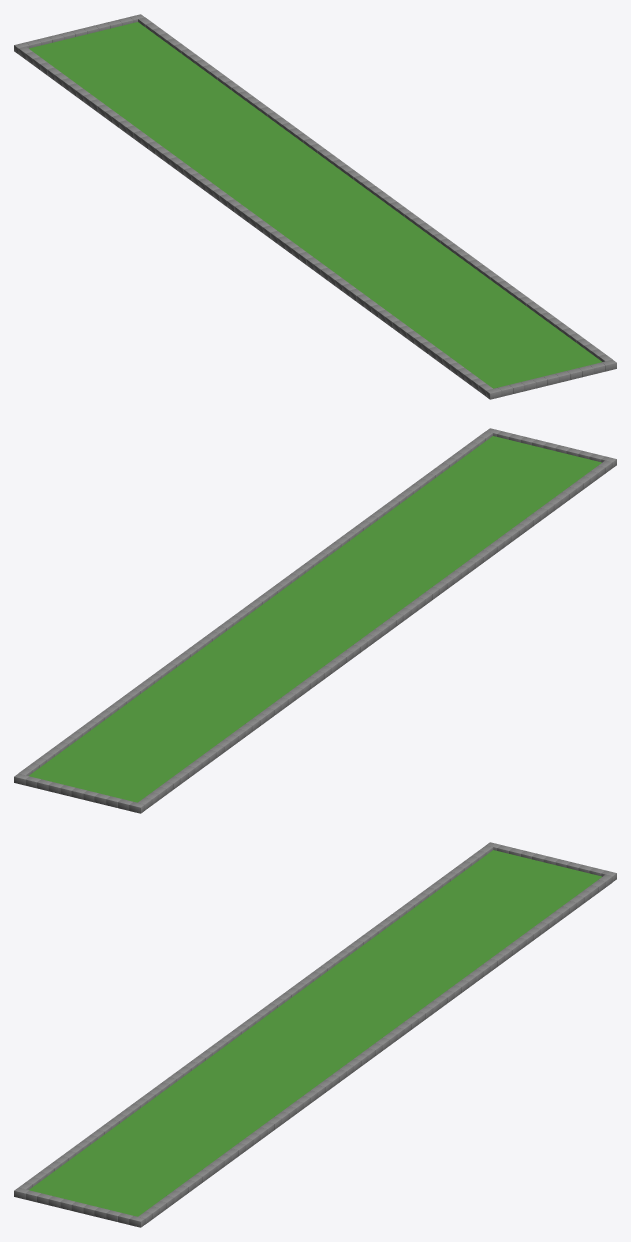
The model's file is grassfieldL.fbx.
3 views of the same model, one above another, from view 1: azimuth 30°, elevation 25°; view 2: azimuth 150°, elevation 25°; view 3: azimuth 330°, elevation 25° (orthographic).
Visible parts, largest first — view 1: Plane.005, Cube.099; view 2: Plane.005, Cube.099; view 3: Plane.005, Cube.099.
Boxes of the visible parts, x1=… form: Plane.005: x1=29, y1=22, x2=601, y2=388; Cube.099: x1=14, y1=14, x2=616, y2=399; Plane.005: x1=29, y1=436, x2=601, y2=802; Cube.099: x1=14, y1=428, x2=616, y2=813; Plane.005: x1=29, y1=850, x2=601, y2=1216; Cube.099: x1=14, y1=842, x2=616, y2=1227.
Bounding box in the file's own units: 1429 × 67.2 × 9268.
